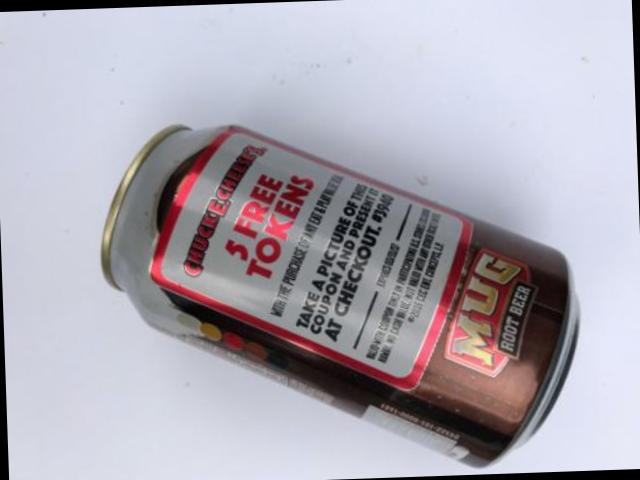metal: (103, 128, 580, 467)
